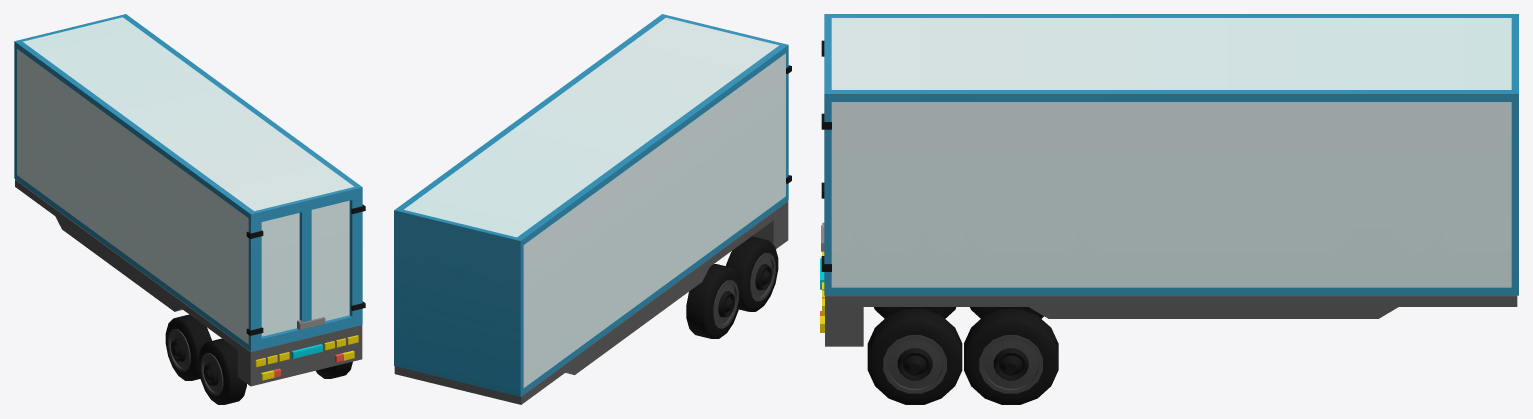
The model's file is CarAdd.fbx.
The picture shows the model from 3 angles, left to right: view 1: azimuth 30°, elevation 25°; view 2: azimuth 150°, elevation 25°; view 3: azimuth 270°, elevation 25°; orthographic projection. The views are drawn at different scales.
Parts seen in each view (by area): view 1: Box015, R3_045, R3_046, R3_041; view 2: Box015, R3_046, R3_045; view 3: Box015, R3_041, R3_044.
Part boxes in pixels (x1,y1,x2,y2): Box015: (14, 14, 365, 386); R3_045: (198, 338, 246, 404); R3_046: (165, 314, 211, 380); R3_041: (316, 361, 352, 378); Box015: (394, 14, 791, 404); R3_046: (686, 264, 740, 338); R3_045: (726, 236, 778, 311); Box015: (820, 14, 1518, 346); R3_041: (867, 309, 962, 404); R3_044: (964, 309, 1058, 404).
Size of the model in its own units: 3312 by 4796 by 9870.
